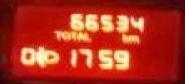0: (19, 45, 34, 65)
1: (69, 48, 75, 68)
3: (113, 12, 127, 30)
4: (127, 14, 143, 31)
5: (95, 48, 112, 69), (98, 12, 112, 31)
6: (84, 11, 99, 30), (67, 11, 82, 28)
7: (77, 46, 92, 67)
9: (112, 48, 128, 69)
X: (127, 33, 140, 44), (50, 29, 60, 40), (60, 29, 69, 40), (82, 31, 90, 41), (120, 31, 127, 42), (75, 30, 82, 41), (69, 29, 75, 40)
